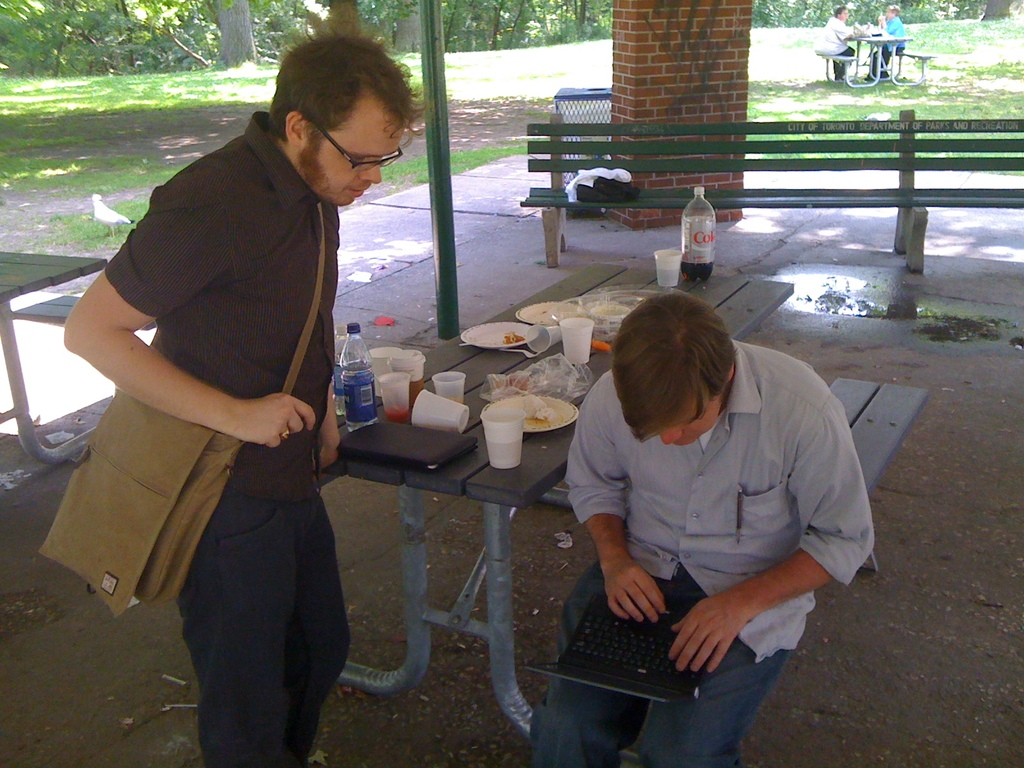Laptop: (527, 548, 742, 735), (337, 420, 477, 473)
